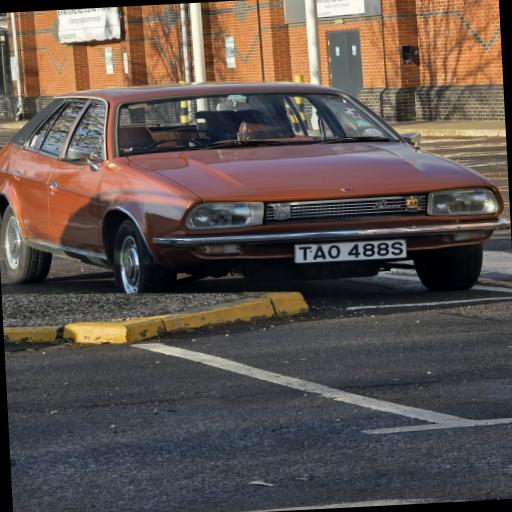numberplates: (295, 240, 406, 263)
